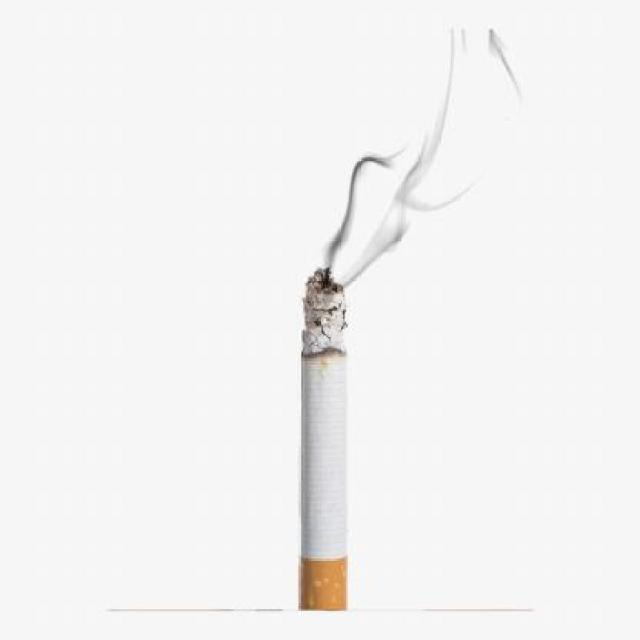cigarette: (284, 278, 394, 618)
